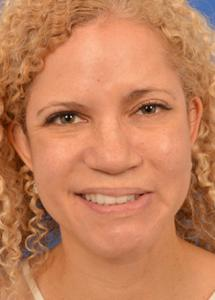strokeEyeMid: (33, 86, 178, 131)
strokeMouthWeak: (69, 180, 158, 217)
